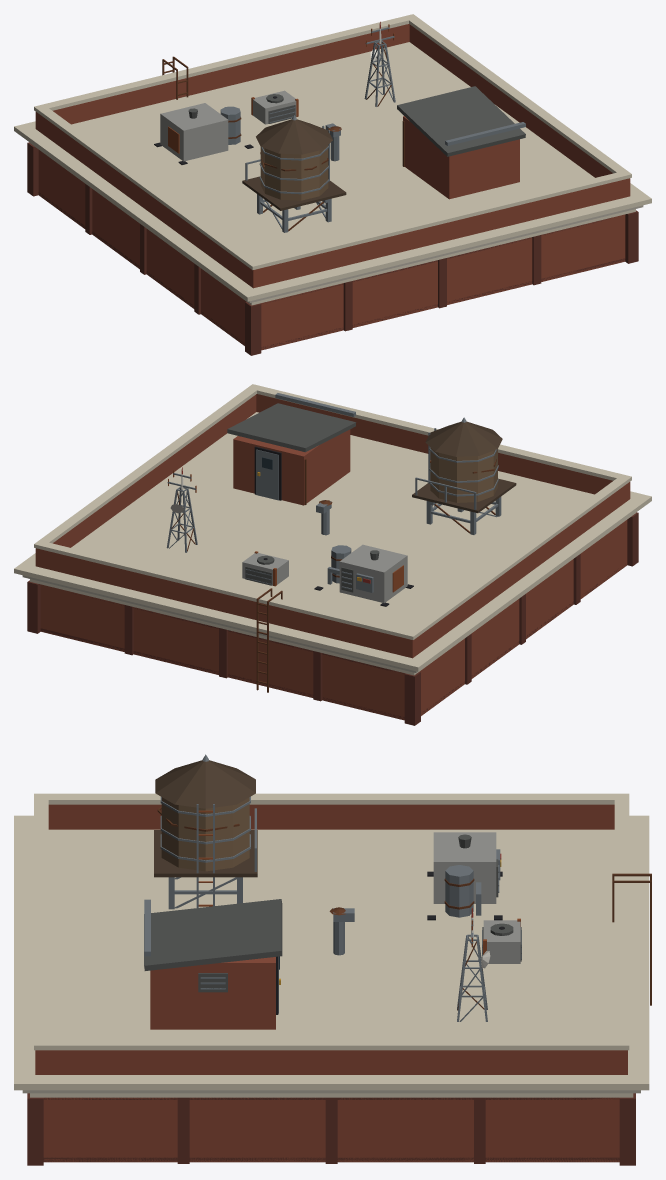
The model's file is tw_brick_16_crown.glb.
3 views of the same model, one above another, from view 1: azimuth 30°, elevation 25°; view 2: azimuth 150°, elevation 25°; view 3: azimuth 270°, elevation 25° (orthographic). The views are drawn at different scales.
Visible parts, largest first — view 1: tw_brick_16_crown; view 2: tw_brick_16_crown; view 3: tw_brick_16_crown.
Boxes of the visible parts, box(x1,y1,x2,y2) form: tw_brick_16_crown: box(14, 14, 651, 355); tw_brick_16_crown: box(14, 384, 651, 725); tw_brick_16_crown: box(14, 754, 651, 1165).
Size of what is drawn, in the model's own units: 17.16 by 6.75 by 17.23.
Materials: 3 (3 with a texture image).
